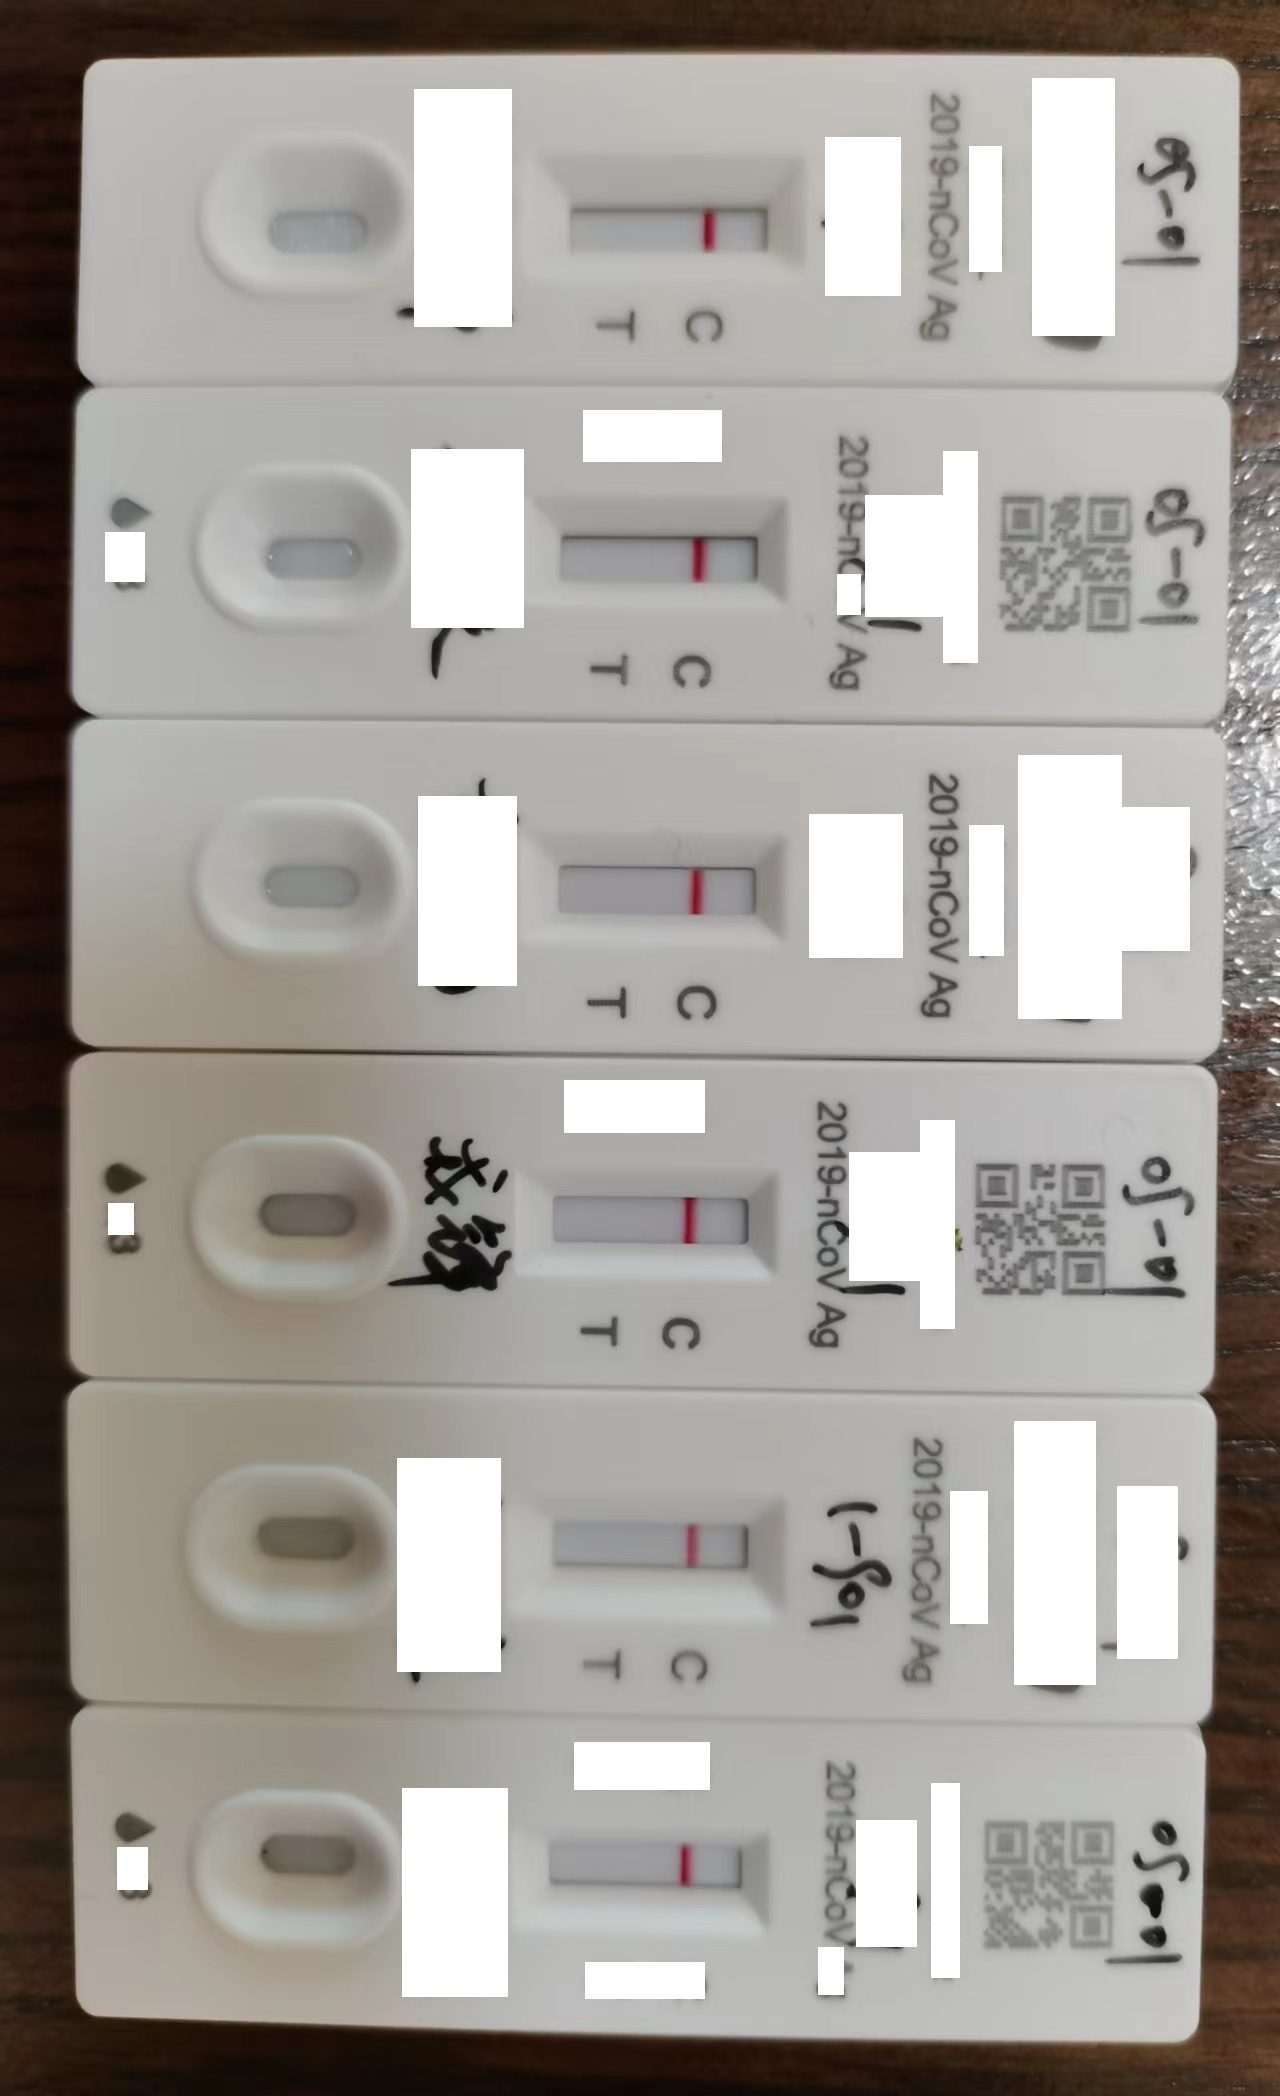negative: (549, 154, 801, 274), (543, 502, 793, 615), (534, 1174, 787, 1279), (549, 1503, 789, 1611), (546, 844, 784, 937), (546, 1831, 774, 1919)
